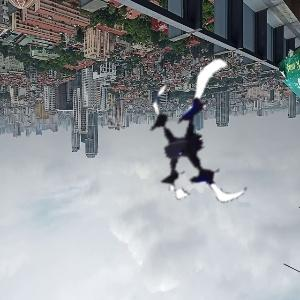drone: (128, 74, 270, 216)
